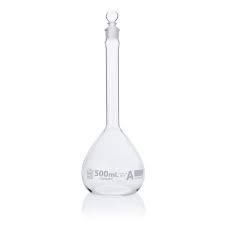Volumetric flask: (75, 8, 150, 193)
